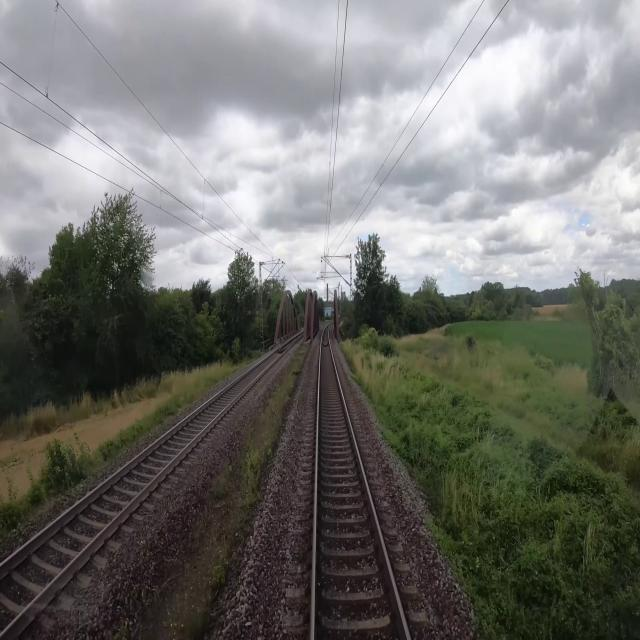Plant: (144, 345, 308, 639), (116, 618, 133, 639), (138, 537, 148, 551)
